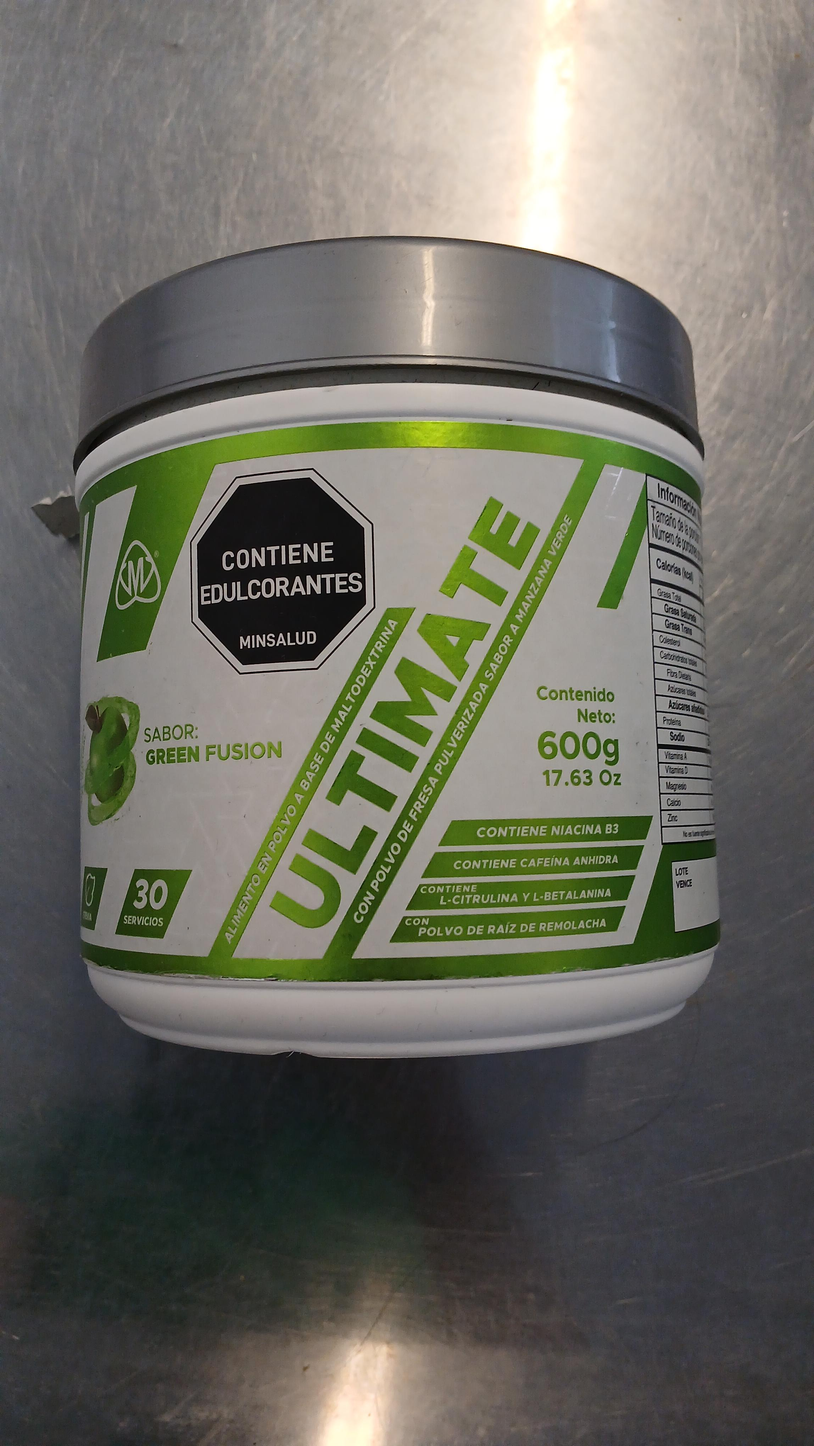Plastico: (75, 238, 726, 1061)
